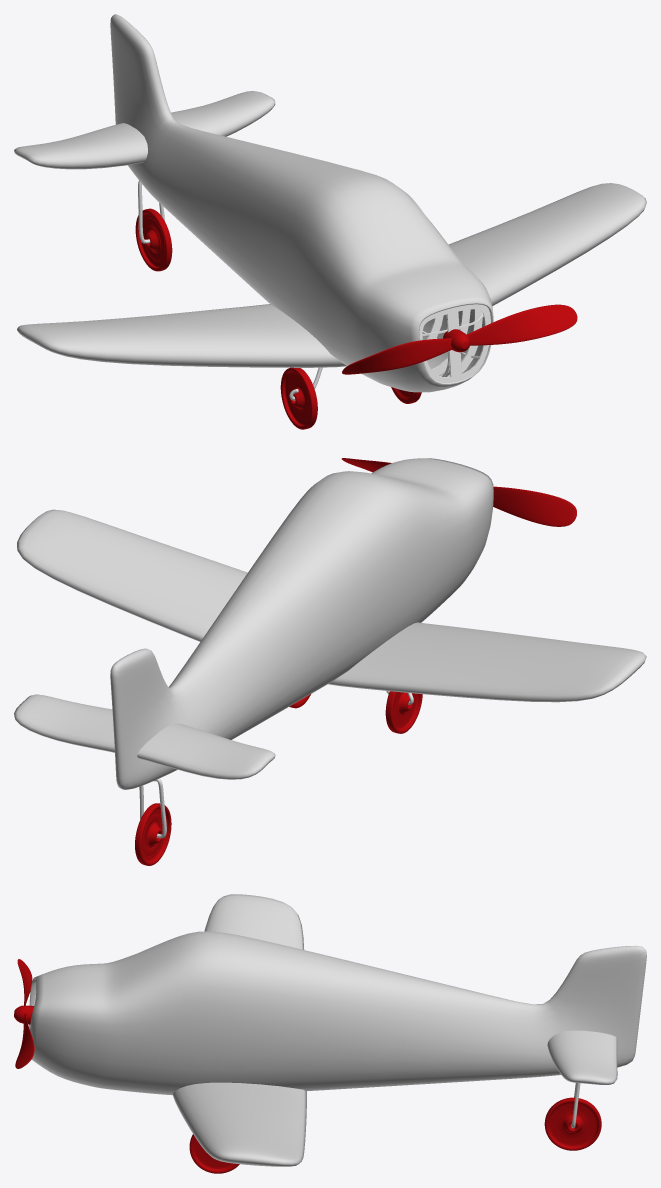
Rendered from realcity_20.gltf.
The picture shows the model from 3 angles, top to bottom: view 1: azimuth 30°, elevation 25°; view 2: azimuth 150°, elevation 25°; view 3: azimuth 270°, elevation 25°; orthographic projection. The views are drawn at different scales.
Parts seen in each view (by area): view 1: realcity_20; view 2: realcity_20; view 3: realcity_20.
Part boxes in pixels (bbox=[...]): realcity_20: bbox=[14, 14, 646, 429]; realcity_20: bbox=[14, 458, 646, 865]; realcity_20: bbox=[14, 894, 646, 1173].
Bounding box in the file's own units: 4.63 × 1.72 × 4.69.
